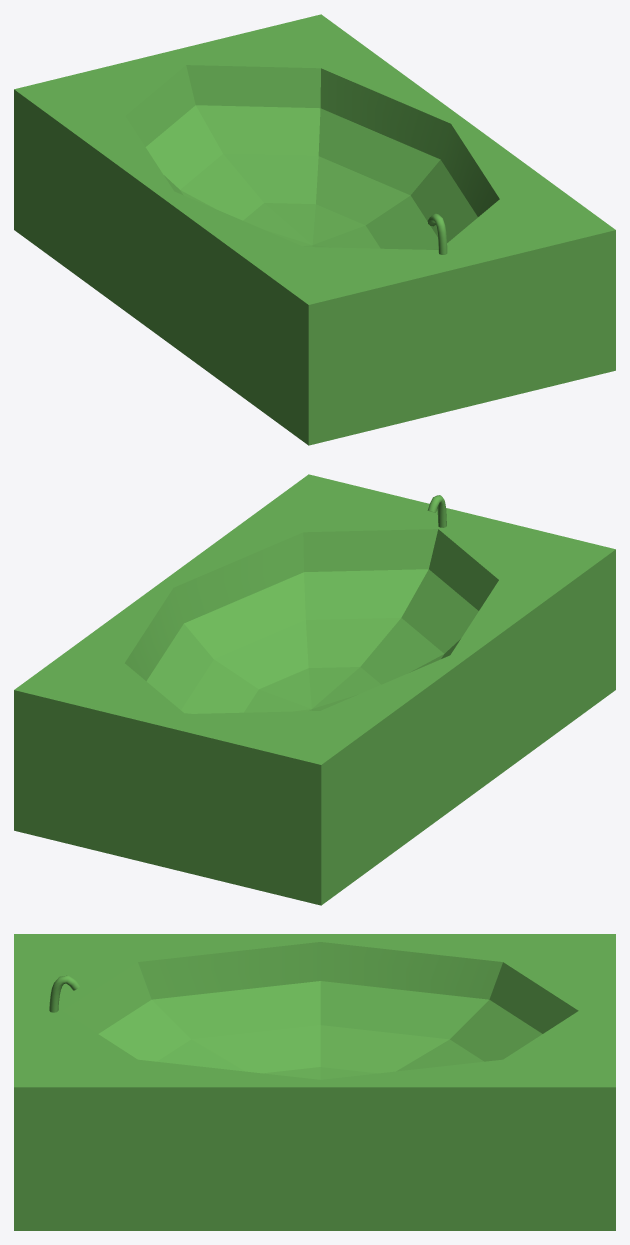
Rendered from MainBath.fbx.
3 renders of one model, top to bottom at view 1: azimuth 30°, elevation 25°; view 2: azimuth 150°, elevation 25°; view 3: azimuth 270°, elevation 25°, orthographic. The views are drawn at different scales.
Parts seen in each view (by area): view 1: Bath1; view 2: Bath1; view 3: Bath1.
Boxes of the visible parts, x1,y1,x2,y2 form: Bath1: [14, 14, 615, 445]; Bath1: [14, 474, 615, 905]; Bath1: [14, 934, 615, 1230].
Size of the model in its own units: 173 by 94.05 by 287.
